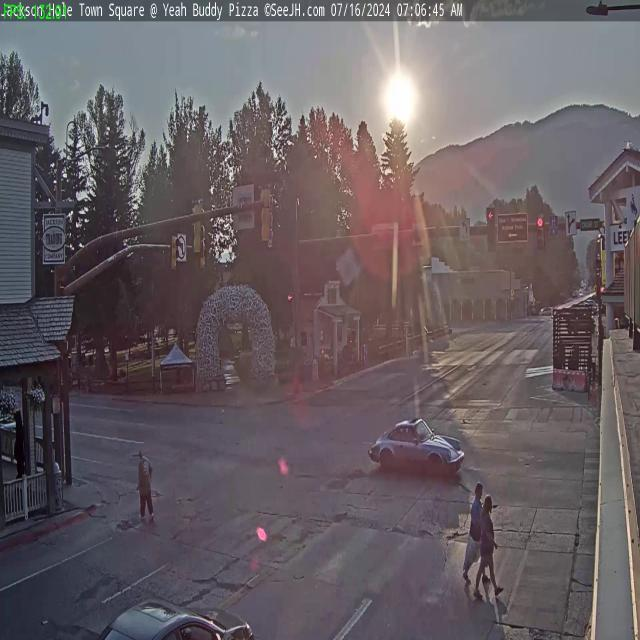person: (478, 487, 496, 598), (465, 481, 483, 583), (137, 452, 152, 522)
sedan: (368, 412, 468, 479)
traffic light: (260, 184, 274, 244), (190, 200, 204, 256), (168, 229, 180, 279), (486, 207, 496, 252), (536, 216, 546, 250)
